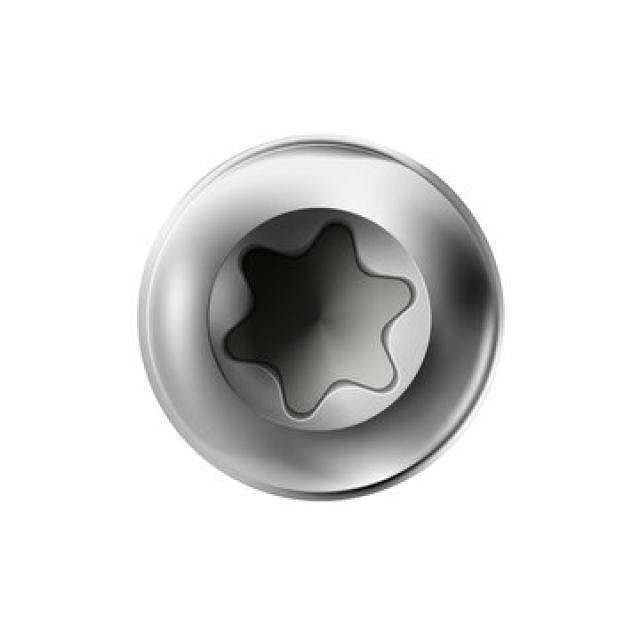torx: (137, 135, 507, 501)
